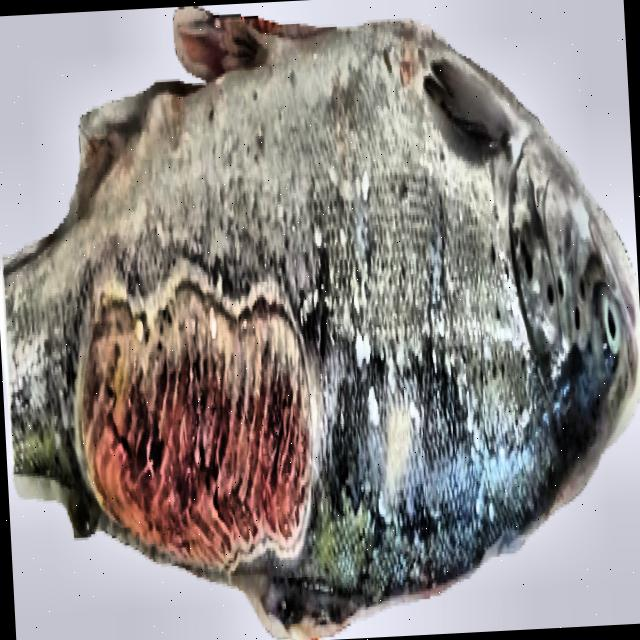wound: (84, 286, 310, 558)
